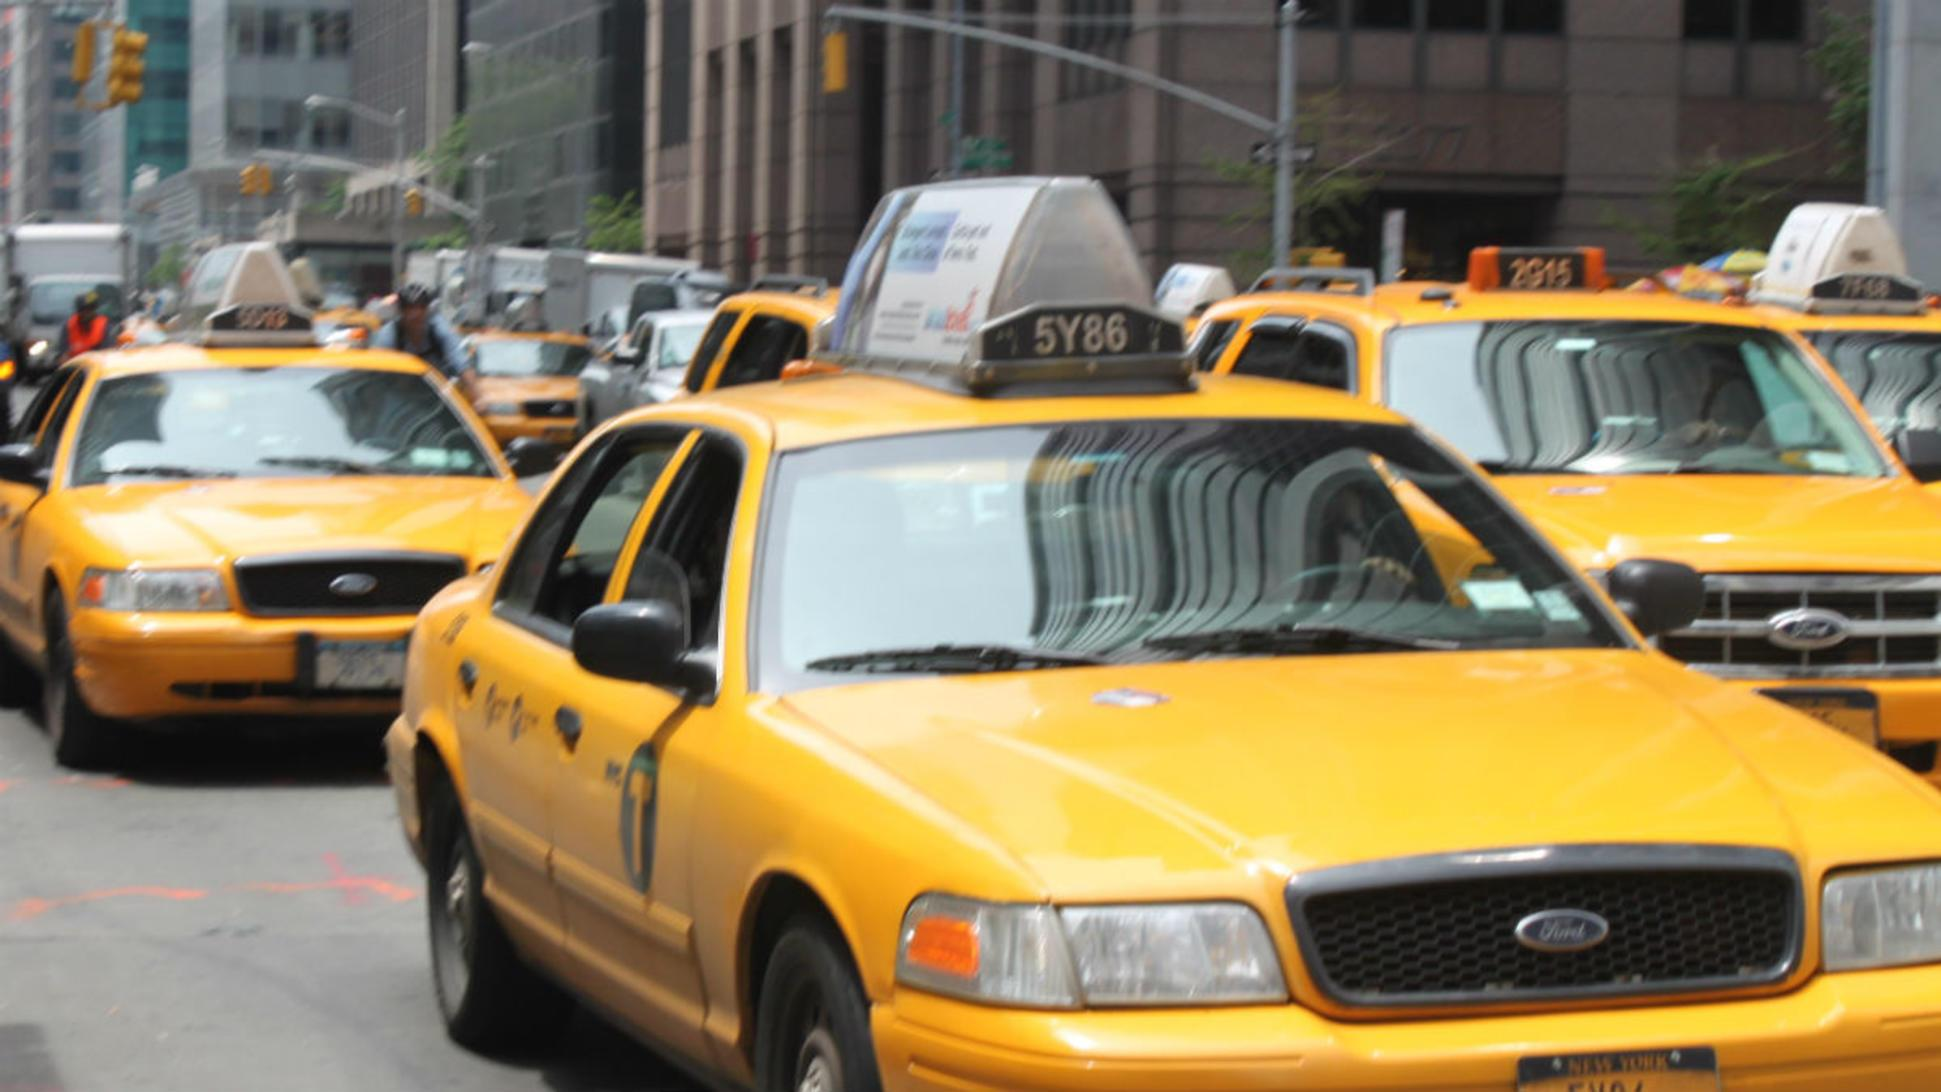taxi: (403, 365, 1941, 1092)
